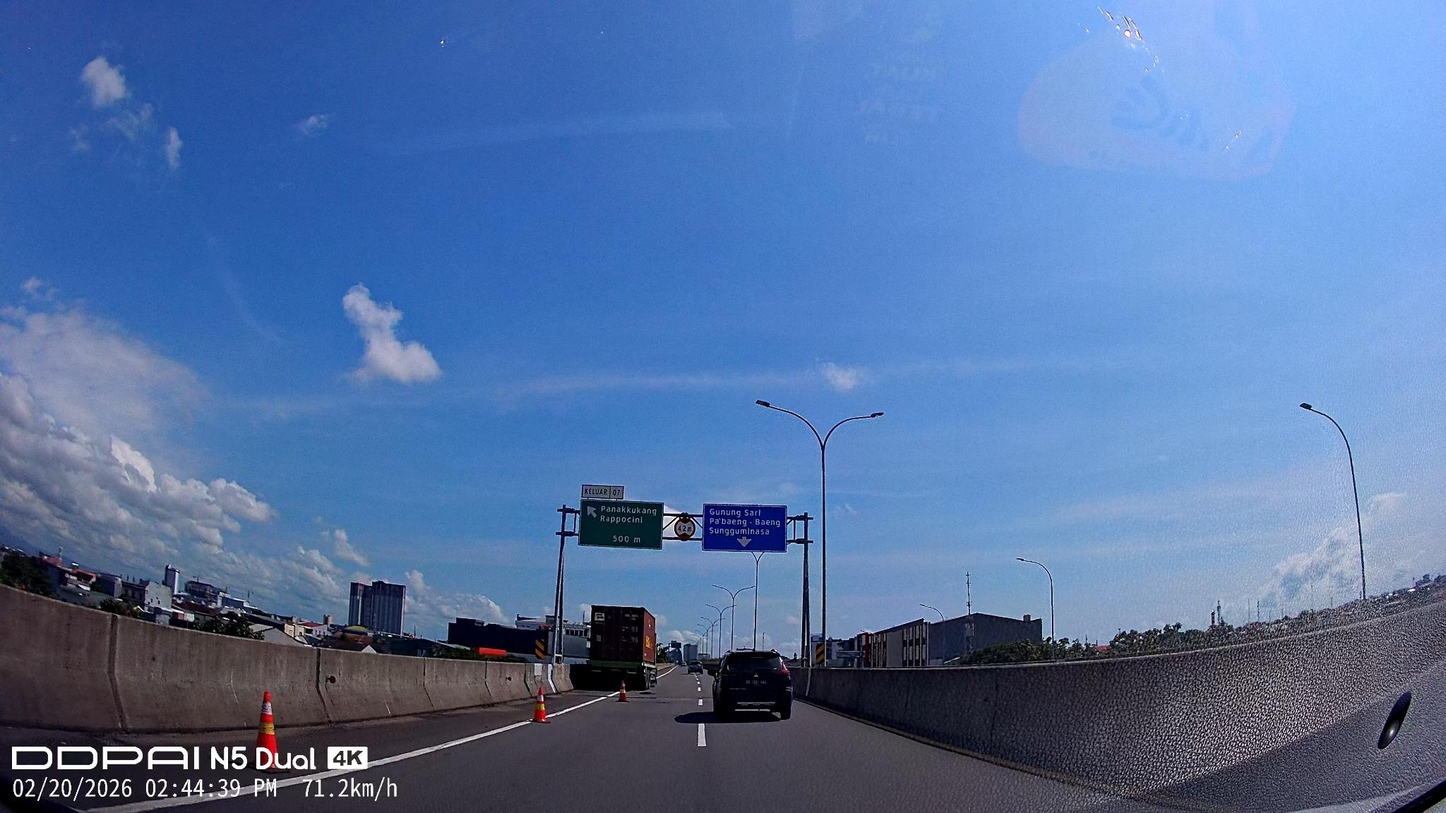rambu_teks: (578, 499, 664, 549), (702, 504, 787, 552)
